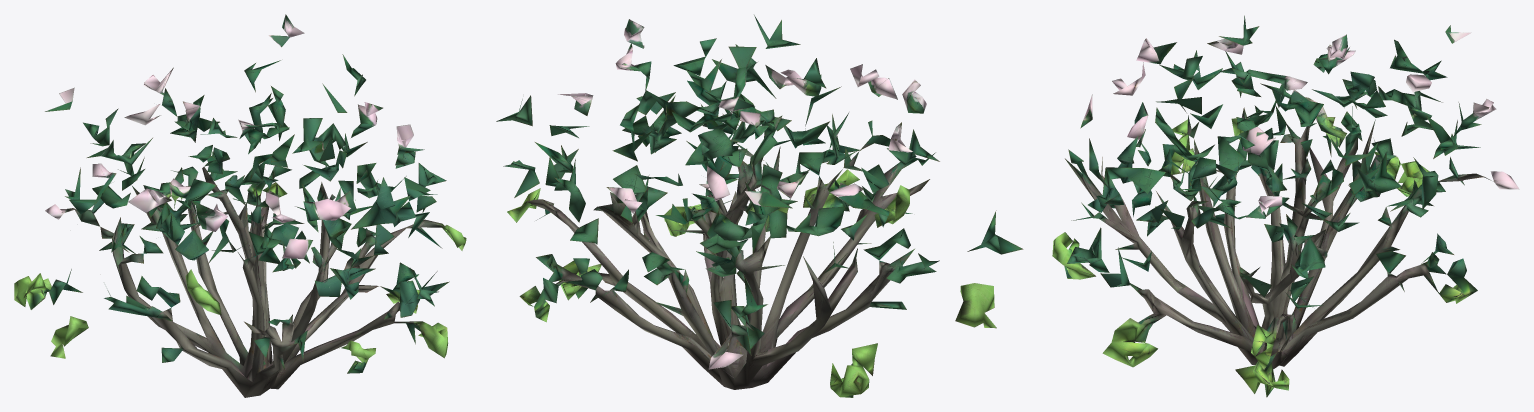
3 renders of one model, left to right at view 1: azimuth 30°, elevation 25°; view 2: azimuth 150°, elevation 25°; view 3: azimuth 270°, elevation 25°, orthographic. The views are drawn at different scales.
Visible parts, largest first — view 1: Mesh_0; view 2: Mesh_0; view 3: Mesh_0.
Boxes of the visible parts, box(x1,y1,x2,y2) form: Mesh_0: box(14, 14, 466, 397); Mesh_0: box(496, 15, 1023, 397); Mesh_0: box(1052, 15, 1519, 397).
Size of the model in its own units: 1.75 by 1.28 by 1.5.
Materials: 1 (1 with a texture image).
